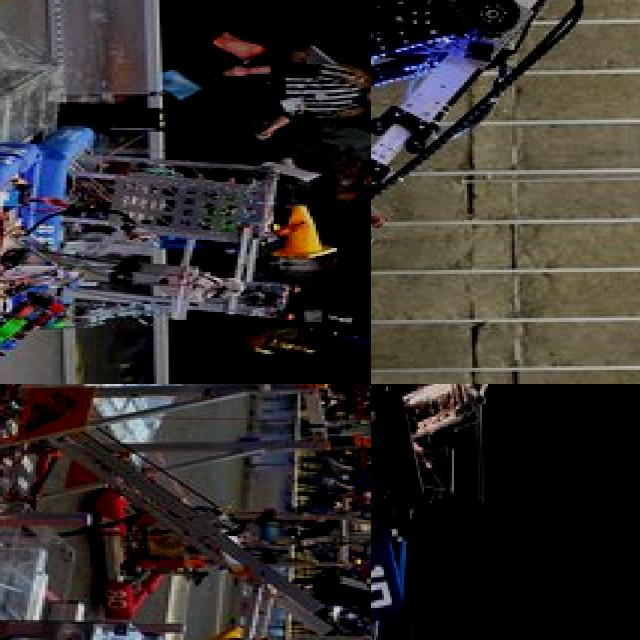FRC-Robots: (0, 384, 371, 640), (0, 132, 275, 384), (371, 384, 640, 631), (371, 0, 576, 300), (90, 447, 371, 640)
